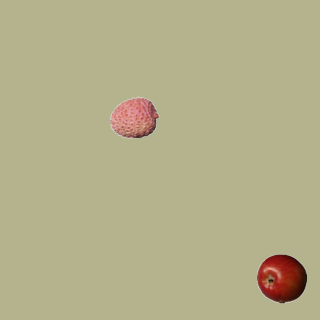Apple Braeburn: (256, 253, 306, 303)
Lychee: (109, 92, 159, 142)
